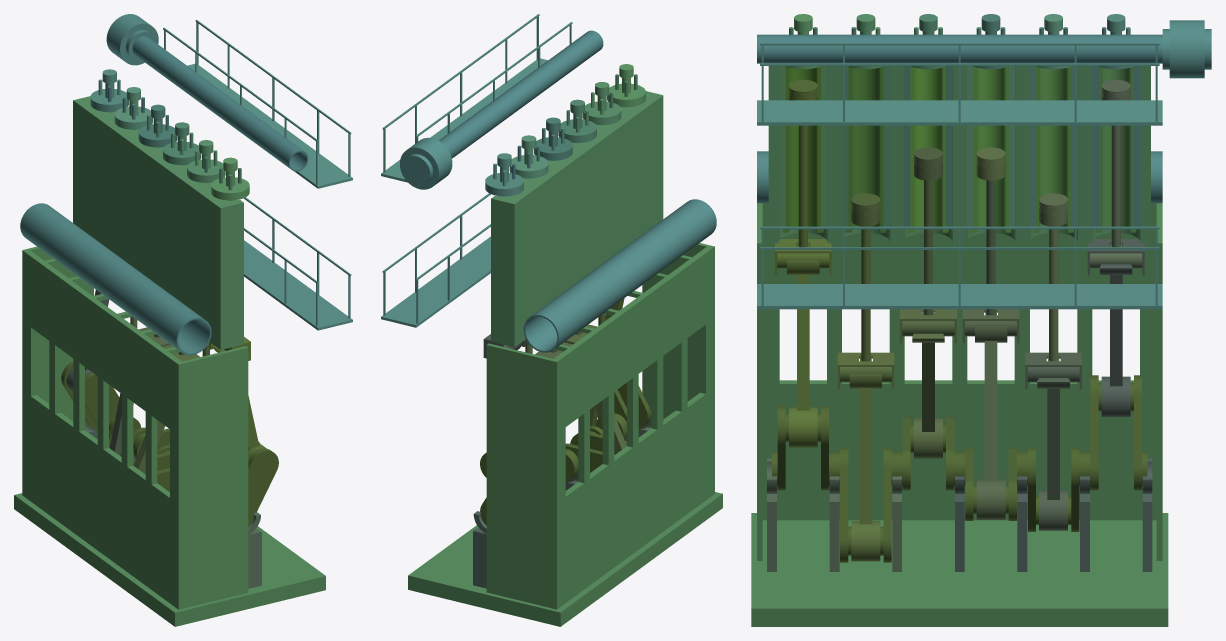
Rendered from engine_cutaway.glb.
3 views of the same model, side by side, from view 1: azimuth 30°, elevation 25°; view 2: azimuth 150°, elevation 25°; view 3: azimuth 270°, elevation 25° (orthographic). The views are drawn at different scales.
Parts seen in each view (by area): view 1: ENGINE_FRAME, ENGINE_CYLINDER_FRAME, ENGINE_SCAVENGE_RECEIVER, ENGINE_BEDPLATE, ENGINE_EXHAUST_RECEIVER, ENGINE_GALLERY_LOWER, ENGINE_GALLERY_UPPER, ENGINE_CRANKSHAFT, ENGINE_TURBOCHARGER, ENGINE_MAIN_BEARING_01, CYL_01_COVER, CYL_04_COVER (+5 smaller); view 2: ENGINE_FRAME, ENGINE_CYLINDER_FRAME, ENGINE_SCAVENGE_RECEIVER, ENGINE_BEDPLATE, ENGINE_GALLERY_LOWER, ENGINE_EXHAUST_RECEIVER, ENGINE_GALLERY_UPPER, ENGINE_CRANKSHAFT, ENGINE_TURBOCHARGER, ENGINE_MAIN_BEARING_07, CYL_06_COVER, CYL_05_COVER (+4 smaller); view 3: ENGINE_FRAME, ENGINE_BEDPLATE, ENGINE_CYLINDER_FRAME, ENGINE_GALLERY_LOWER, ENGINE_GALLERY_UPPER, ENGINE_CRANKSHAFT, ENGINE_EXHAUST_RECEIVER, CYL_02_LINER, CYL_05_LINER, CYL_04_LINER, CYL_04_CONROD, CYL_03_LINER (+41 smaller).
Boxes of the visible parts, x1=… form: ENGINE_FRAME: x1=22, y1=246, x2=248, y2=609; ENGINE_CYLINDER_FRAME: x1=73, y1=96, x2=243, y2=349; ENGINE_SCAVENGE_RECEIVER: x1=20, y1=203, x2=211, y2=355; ENGINE_BEDPLATE: x1=14, y1=493, x2=325, y2=626; ENGINE_EXHAUST_RECEIVER: x1=132, y1=36, x2=308, y2=171; ENGINE_GALLERY_LOWER: x1=244, y1=197, x2=352, y2=330; ENGINE_GALLERY_UPPER: x1=163, y1=20, x2=352, y2=188; ENGINE_CRANKSHAFT: x1=61, y1=361, x2=278, y2=526; ENGINE_TURBOCHARGER: x1=106, y1=14, x2=158, y2=65; ENGINE_MAIN_BEARING_01: x1=248, y1=512, x2=261, y2=588; CYL_01_COVER: x1=211, y1=177, x2=249, y2=200; CYL_04_COVER: x1=138, y1=124, x2=177, y2=147; ENGINE_FRAME: x1=486, y1=243, x2=714, y2=609; ENGINE_CYLINDER_FRAME: x1=491, y1=91, x2=663, y2=347; ENGINE_SCAVENGE_RECEIVER: x1=523, y1=199, x2=716, y2=352; ENGINE_BEDPLATE: x1=408, y1=492, x2=722, y2=626; ENGINE_GALLERY_LOWER: x1=381, y1=193, x2=490, y2=327; ENGINE_EXHAUST_RECEIVER: x1=439, y1=30, x2=603, y2=158; ENGINE_GALLERY_UPPER: x1=381, y1=14, x2=572, y2=182; ENGINE_CRANKSHAFT: x1=480, y1=382, x2=650, y2=525; ENGINE_TURBOCHARGER: x1=400, y1=137, x2=452, y2=189; ENGINE_MAIN_BEARING_07: x1=473, y1=511, x2=486, y2=588; CYL_06_COVER: x1=485, y1=173, x2=523, y2=196; CYL_05_COVER: x1=509, y1=155, x2=548, y2=178; ENGINE_FRAME: x1=757, y1=203, x2=1162, y2=560; ENGINE_BEDPLATE: x1=751, y1=513, x2=1168, y2=626; ENGINE_CYLINDER_FRAME: x1=768, y1=66, x2=1150, y2=243; ENGINE_GALLERY_LOWER: x1=757, y1=226, x2=1162, y2=309; ENGINE_GALLERY_UPPER: x1=757, y1=43, x2=1162, y2=125; ENGINE_CRANKSHAFT: x1=772, y1=375, x2=1147, y2=562; ENGINE_EXHAUST_RECEIVER: x1=757, y1=34, x2=1162, y2=63; CYL_02_LINER: x1=845, y1=66, x2=886, y2=232; CYL_05_LINER: x1=1033, y1=66, x2=1073, y2=232; CYL_04_LINER: x1=970, y1=66, x2=1011, y2=232; CYL_04_CONROD: x1=975, y1=326, x2=1007, y2=519; CYL_03_LINER: x1=908, y1=66, x2=948, y2=232.
Bounding box in the file's own units: 4.65 × 11.2 × 7.95.
